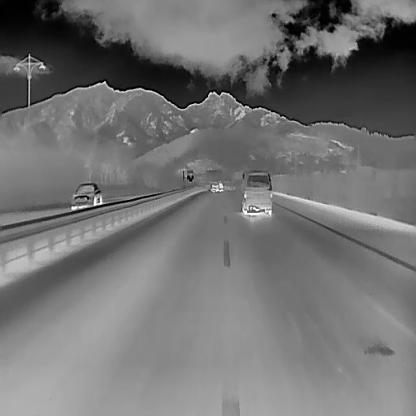car: (240, 168, 273, 216), (70, 182, 102, 210), (209, 180, 218, 192), (217, 182, 224, 192)
